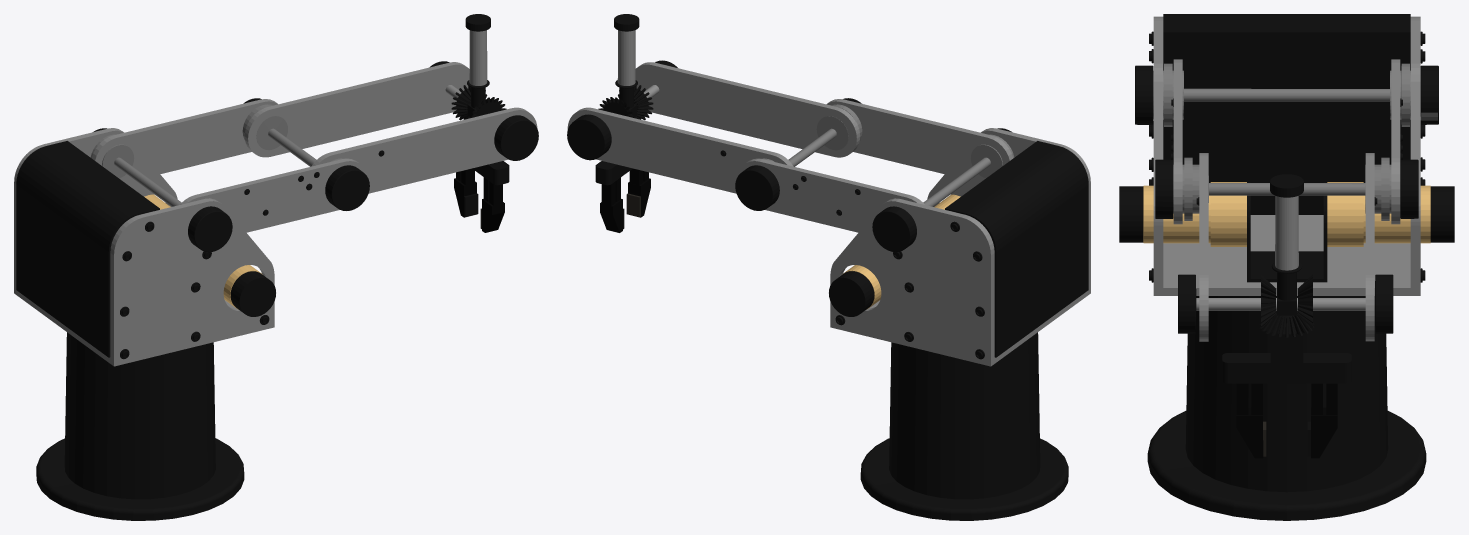
Rendered from Scorbot.fbx.
3 renders of one model, left to right at view 1: azimuth 30°, elevation 25°; view 2: azimuth 150°, elevation 25°; view 3: azimuth 270°, elevation 25°, orthographic. The views are drawn at different scales.
Parts seen in each view (by area): view 1: Hombro, Base, Antebrazo, Brazo, Mano, Segmento2Der, Segmento2Izq; view 2: Hombro, Base, Antebrazo, Brazo, Mano, Segmento2Izq, Segmento2Der; view 3: Hombro, Base, Brazo, Mano, Antebrazo, Segmento2Der, Segmento2Izq, Segmento1Izq, Segmento1Der.
Boxes of the visible parts, bbox=[...] form: Hombro: bbox=[14, 128, 275, 366]; Base: bbox=[36, 332, 244, 520]; Antebrazo: bbox=[244, 61, 538, 193]; Brazo: bbox=[91, 98, 369, 232]; Mano: bbox=[465, 14, 509, 185]; Segmento2Der: bbox=[454, 178, 478, 217]; Segmento2Izq: bbox=[480, 198, 504, 232]; Hombro: bbox=[829, 128, 1090, 366]; Base: bbox=[860, 332, 1068, 520]; Antebrazo: bbox=[567, 60, 860, 193]; Brazo: bbox=[735, 98, 1013, 232]; Mano: bbox=[595, 14, 639, 185]; Segmento2Izq: bbox=[626, 178, 650, 217]; Segmento2Der: bbox=[600, 199, 624, 232]; Hombro: bbox=[1119, 14, 1454, 295]; Base: bbox=[1147, 296, 1426, 520]; Brazo: bbox=[1155, 59, 1418, 224]; Mano: bbox=[1222, 174, 1351, 383]; Antebrazo: bbox=[1178, 153, 1393, 341]; Segmento2Der: bbox=[1307, 407, 1337, 458]; Segmento2Izq: bbox=[1236, 407, 1266, 458]; Segmento1Izq: bbox=[1236, 383, 1262, 414]; Segmento1Der: bbox=[1311, 383, 1337, 414].
Size of the model in its own units: 58.04 by 45.77 by 27.76.
